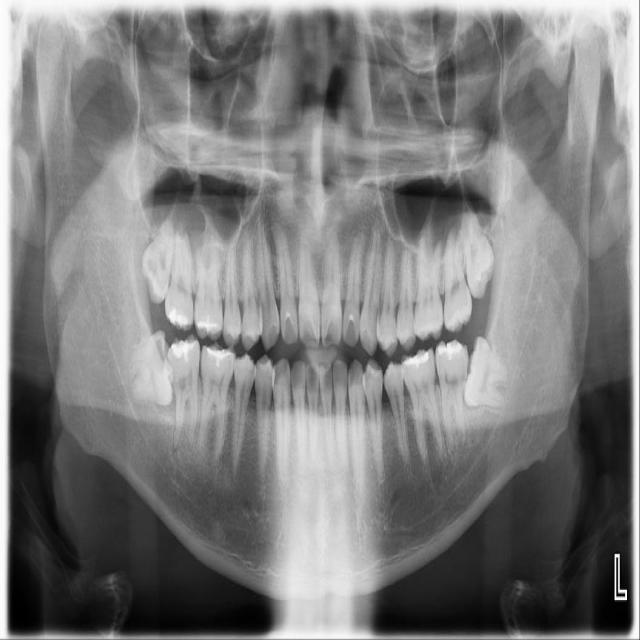Filling: (170, 338, 198, 362), (402, 350, 432, 369), (437, 342, 466, 360), (204, 348, 230, 368), (165, 308, 190, 328), (194, 317, 221, 333)
Periapical lesion: (444, 220, 461, 244), (205, 454, 224, 474), (269, 221, 288, 239), (173, 432, 179, 454)
impacted tooth: (463, 339, 521, 409), (117, 332, 171, 405)
